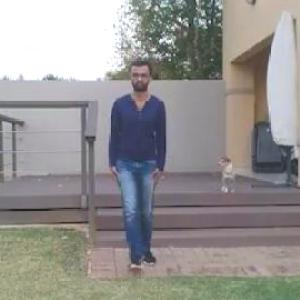follow: (110, 43, 179, 299)
